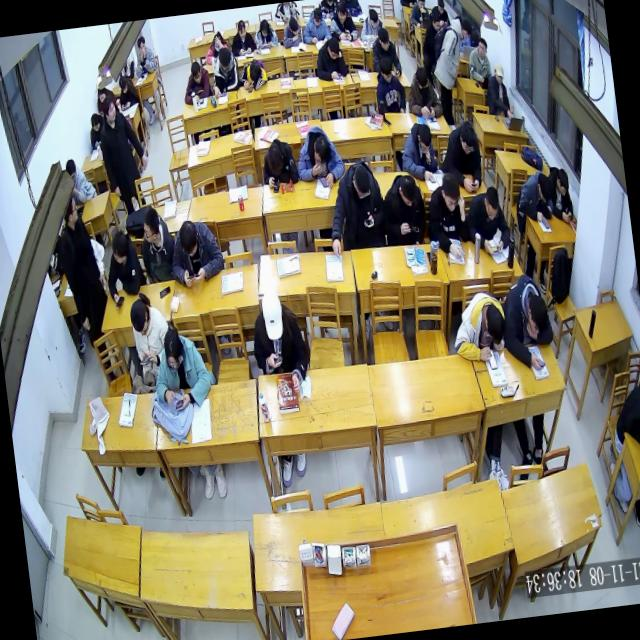bow: (496, 270, 558, 374), (447, 287, 511, 369), (511, 167, 556, 226), (258, 132, 300, 188), (179, 58, 213, 106), (237, 56, 270, 94), (357, 7, 387, 44), (202, 28, 230, 66), (278, 12, 304, 50)
down: (259, 287, 287, 342), (524, 291, 552, 337), (160, 326, 187, 372), (482, 302, 508, 348), (439, 170, 462, 213), (177, 217, 200, 260), (396, 173, 420, 210), (127, 296, 149, 336), (350, 164, 373, 201), (481, 184, 502, 223), (457, 119, 479, 156), (415, 122, 434, 156), (536, 172, 554, 205), (377, 56, 395, 86), (414, 66, 431, 97), (554, 166, 570, 197), (216, 44, 233, 73), (325, 35, 342, 62), (376, 26, 392, 52), (64, 156, 78, 184), (189, 60, 203, 86), (247, 60, 263, 82), (492, 62, 506, 86), (311, 6, 324, 28), (334, 0, 347, 22), (118, 74, 130, 96), (368, 8, 380, 30), (88, 112, 100, 133), (236, 18, 248, 39), (258, 17, 270, 38), (212, 32, 224, 52), (288, 16, 300, 36), (435, 0, 446, 15), (415, 0, 427, 11)
lookup: (476, 36, 489, 59), (136, 35, 148, 57)
sit: (50, 192, 115, 353), (245, 284, 313, 398), (94, 92, 154, 216), (322, 156, 391, 258), (147, 319, 215, 416), (428, 14, 482, 121), (422, 170, 472, 268), (164, 213, 226, 289), (127, 291, 176, 387), (378, 170, 431, 252), (437, 118, 488, 199), (100, 227, 149, 310), (462, 183, 514, 259), (293, 120, 347, 190), (135, 203, 178, 286), (396, 120, 440, 184), (608, 371, 640, 454), (402, 63, 444, 124), (371, 51, 409, 118), (207, 42, 242, 99), (544, 164, 576, 226), (312, 32, 349, 84), (484, 61, 516, 121), (64, 152, 98, 207), (368, 23, 402, 78), (325, 0, 359, 45), (464, 36, 494, 83), (300, 4, 332, 48), (131, 34, 159, 78), (226, 17, 256, 58), (250, 16, 279, 51), (114, 73, 140, 111), (86, 110, 108, 153), (407, 0, 431, 29), (429, 0, 451, 28)
